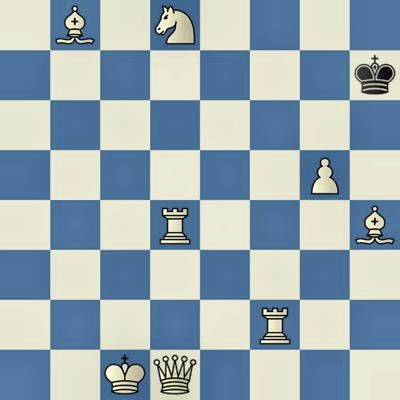black-king: (350, 50, 400, 100)
white-bishop: (50, 0, 100, 50), (350, 200, 400, 250)
white-king: (100, 350, 150, 400)
white-knight: (150, 0, 200, 50)
white-pawn: (300, 150, 350, 200)
white-queen: (150, 350, 200, 400)
white-rook: (150, 200, 200, 250), (250, 300, 300, 350)
